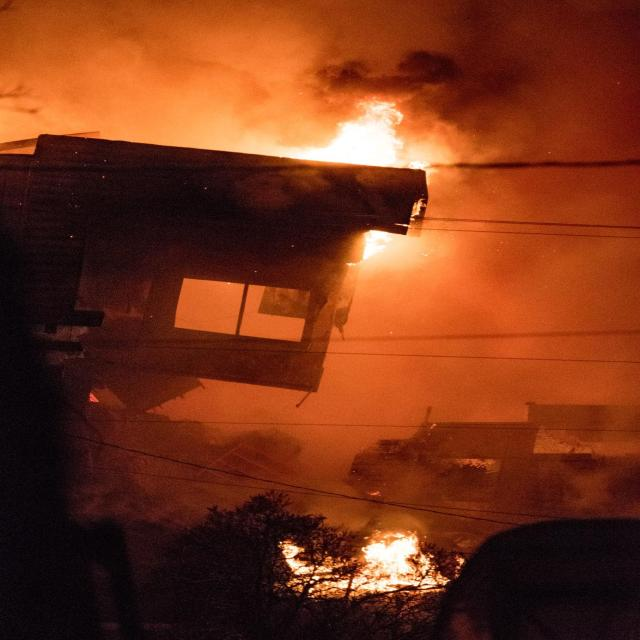Fire: (273, 92, 478, 264), (260, 508, 443, 606)
